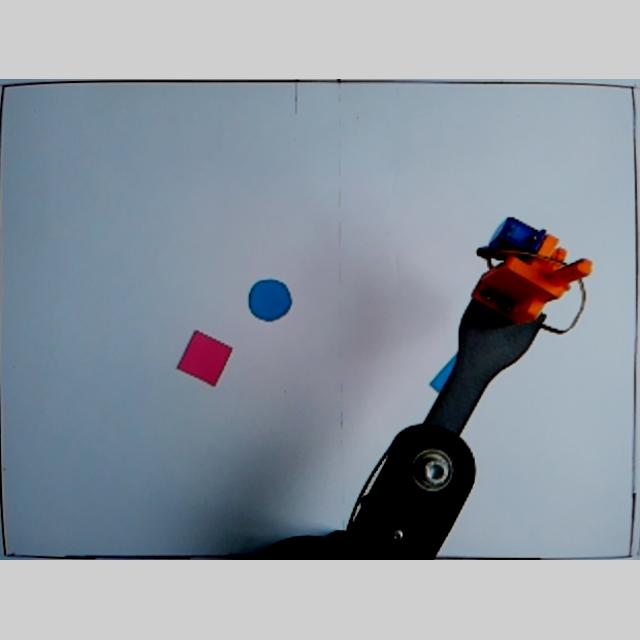blueCircle: (247, 276, 295, 324)
pinkSquare: (178, 328, 235, 389)
